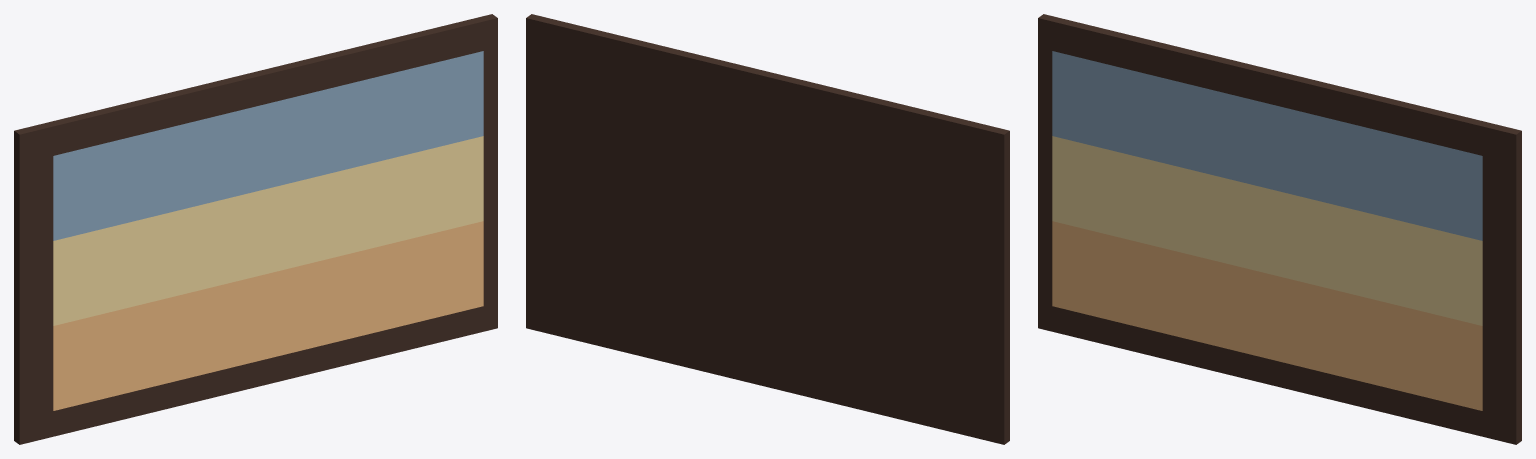
Rendered from quadro_por_do_sol.glb.
The picture shows the model from 3 angles, left to right: view 1: azimuth 30°, elevation 25°; view 2: azimuth 150°, elevation 25°; view 3: azimuth 330°, elevation 25°; orthographic projection.
Parts seen in each view (by area): view 1: Malha_0; view 2: Malha_0; view 3: Malha_0.
Part boxes in pixels (x1,y1,x2,y2): Malha_0: (14,14,497,444); Malha_0: (526,14,1009,444); Malha_0: (1038,14,1521,444).
Size of the model in its own units: 1 by 0.62 by 0.055.
